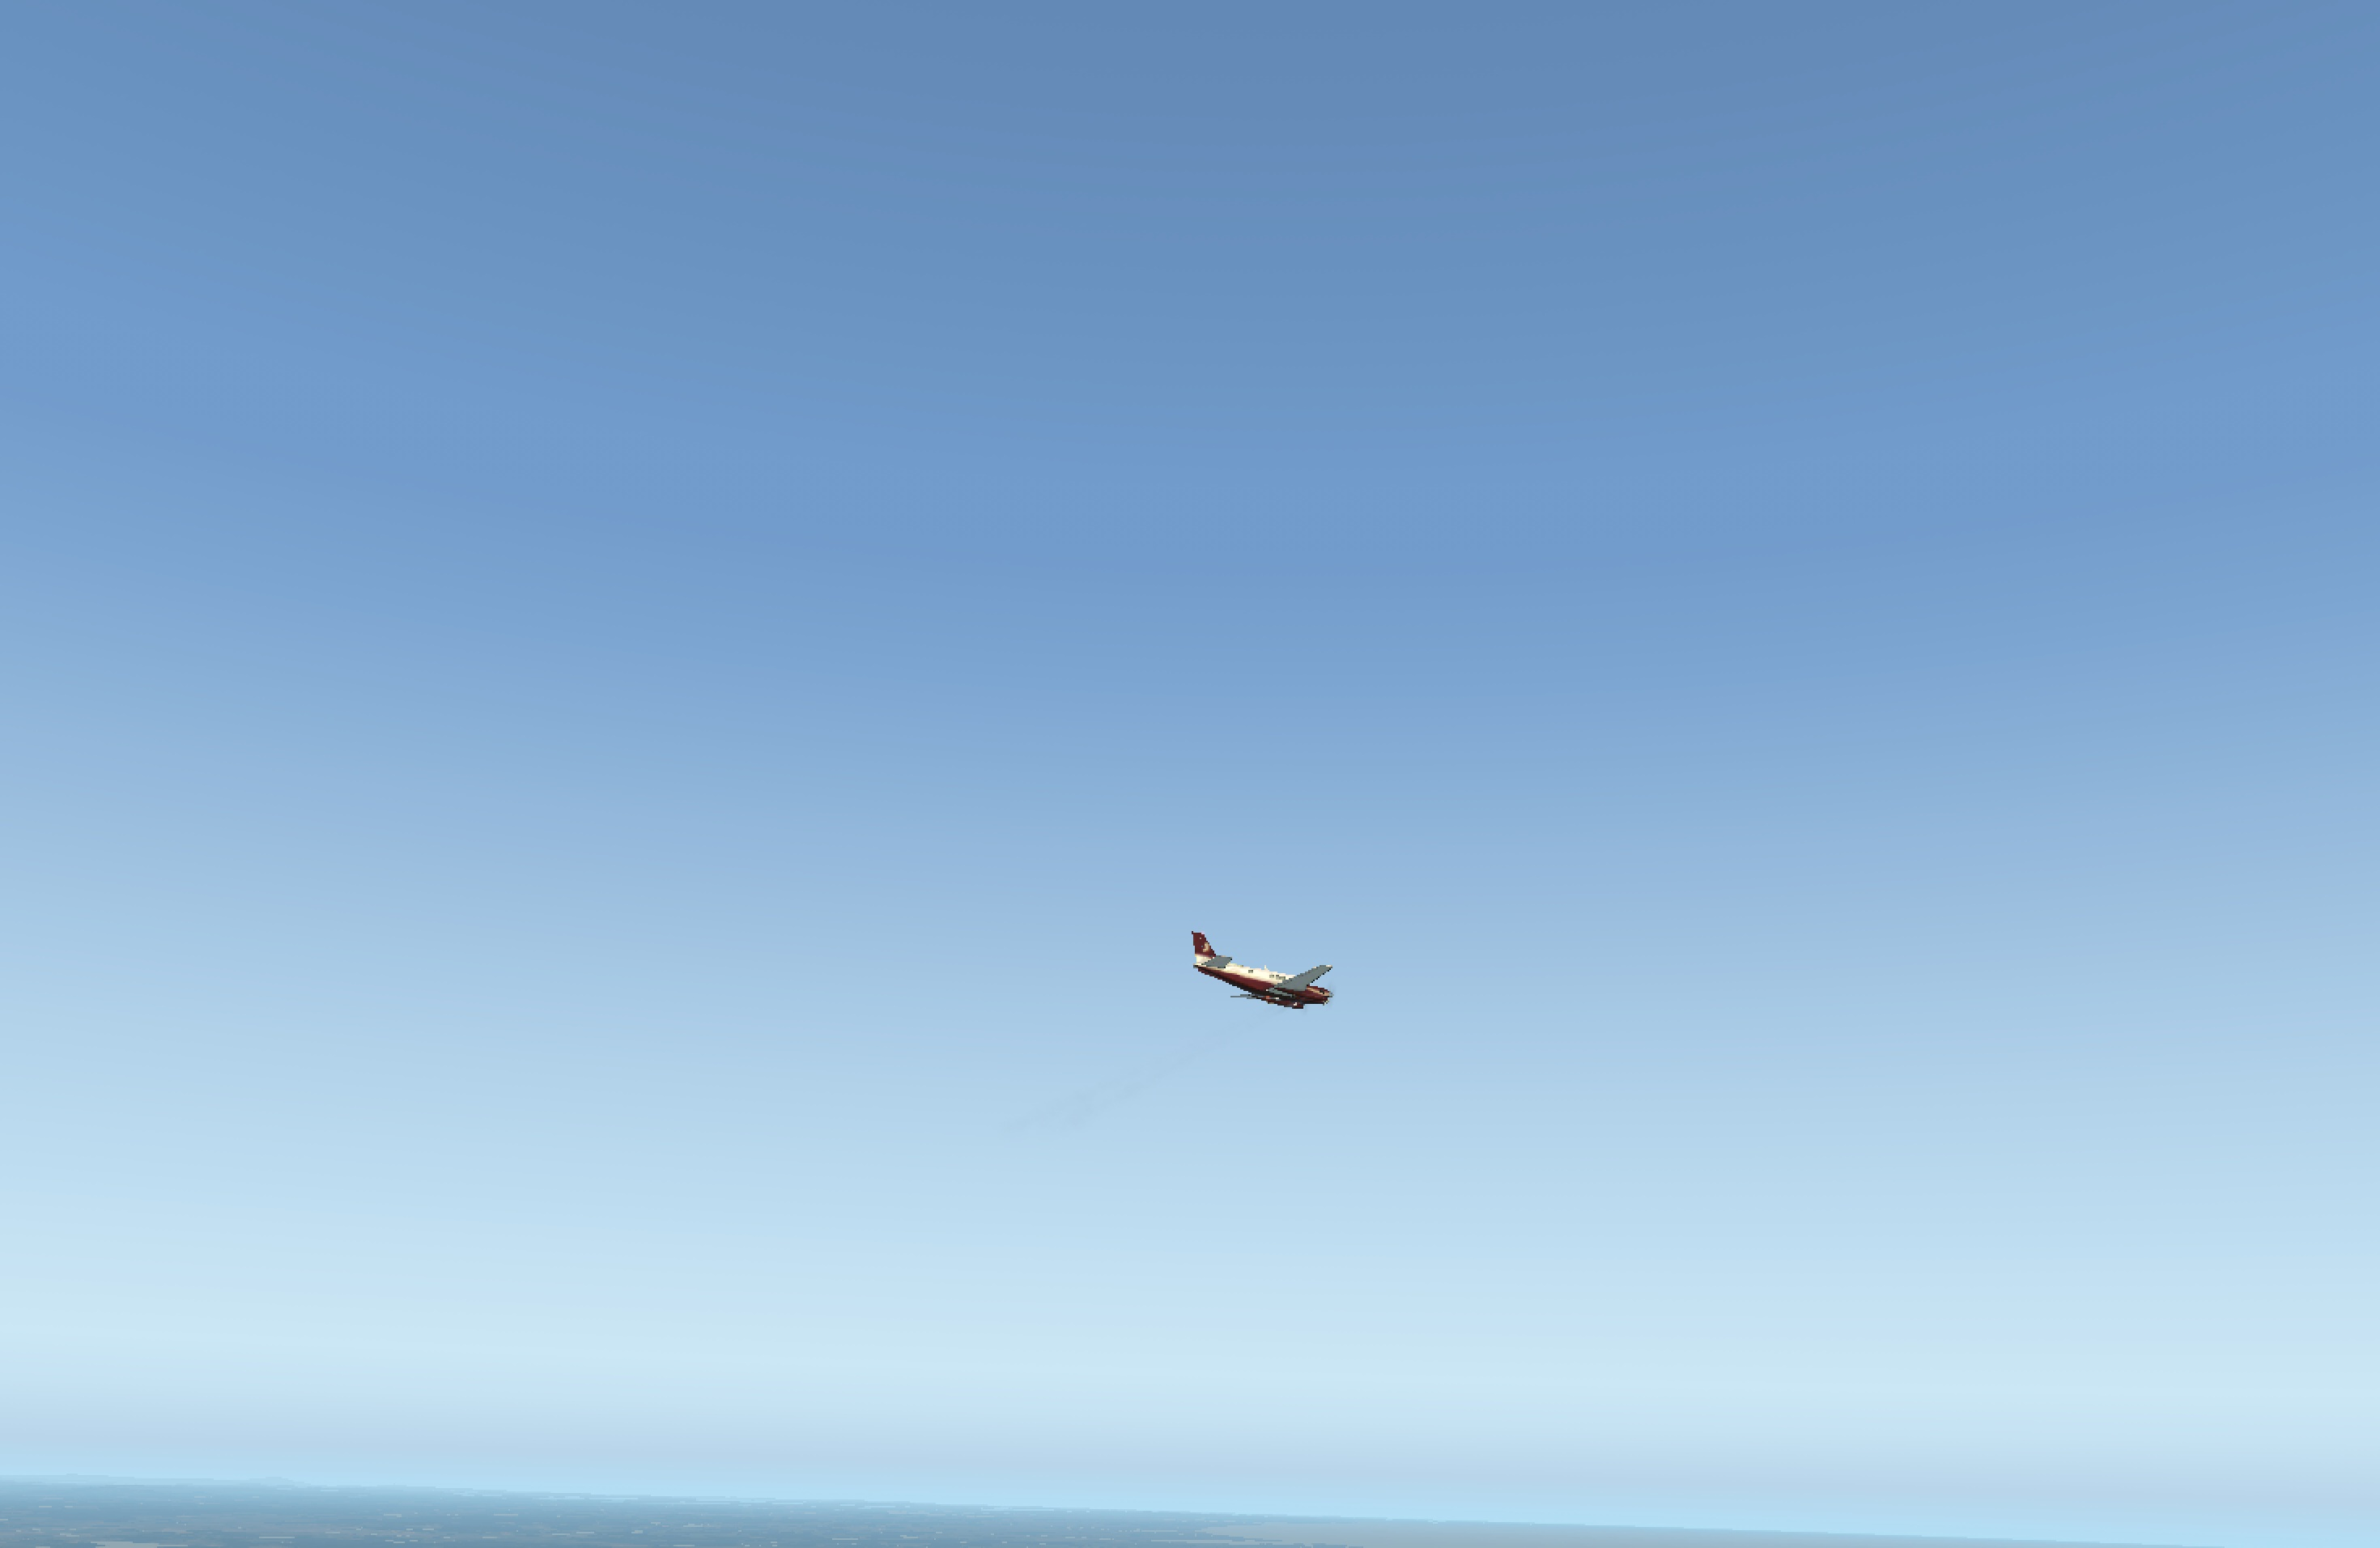aircraft: (1171, 954, 1396, 1040)
